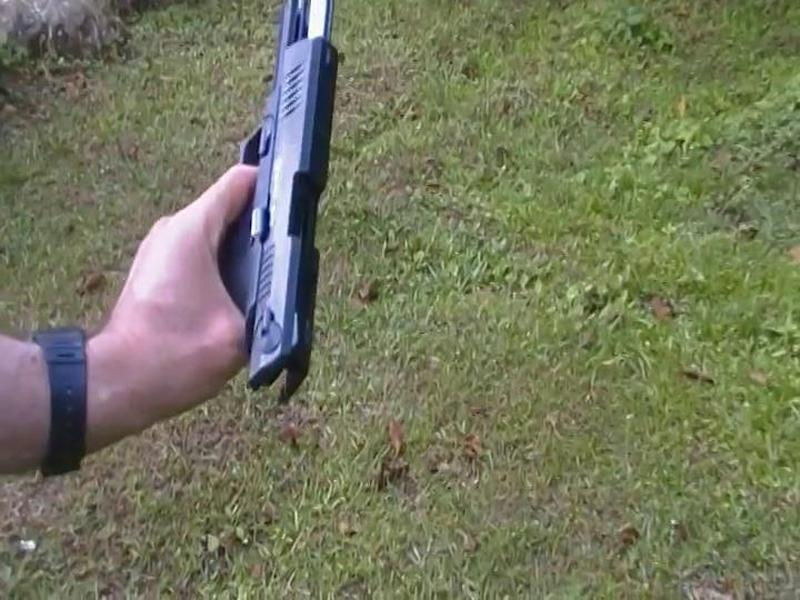Pistola: (170, 31, 378, 398)
